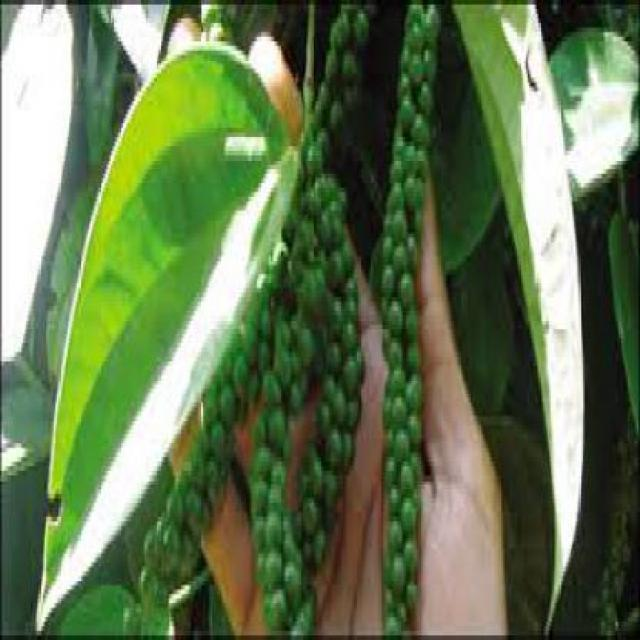UNRIPE: (298, 0, 364, 631), (378, 0, 437, 631), (132, 325, 238, 622), (244, 238, 295, 627)
